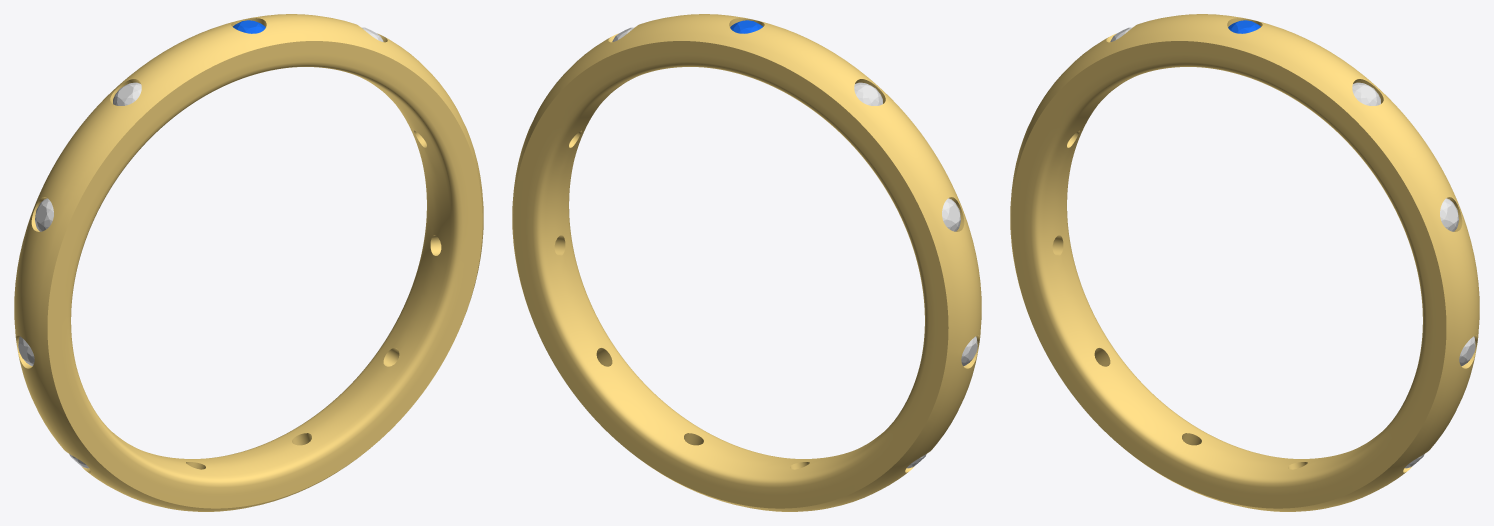
Rendered from KikiYGwb2.2_blender.glb.
The picture shows the model from 3 angles, left to right: view 1: azimuth 30°, elevation 25°; view 2: azimuth 150°, elevation 25°; view 3: azimuth 330°, elevation 25°; orthographic projection.
Parts seen in each view (by area): view 1: Andy hers 2.2 YG for 3d model; view 2: Andy hers 2.2 YG for 3d model; view 3: Andy hers 2.2 YG for 3d model.
Part boxes in pixels (left/top/right/bottom): Andy hers 2.2 YG for 3d model: left=14, top=14, right=483, bottom=511; Andy hers 2.2 YG for 3d model: left=512, top=14, right=981, bottom=511; Andy hers 2.2 YG for 3d model: left=1010, top=14, right=1479, bottom=511.
Size of the model in its own units: 18.06 by 18.04 by 2.2.
